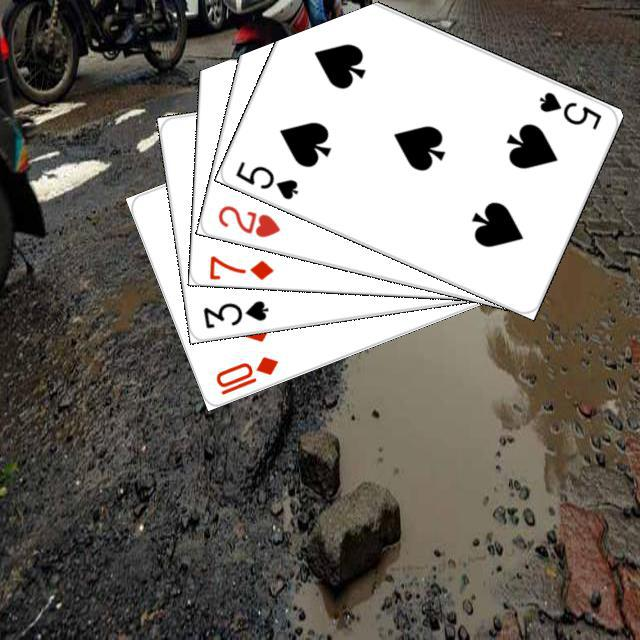10d: (210, 351, 280, 397)
2h: (212, 200, 282, 239)
3s: (198, 295, 270, 330)
5s: (230, 156, 300, 202), (534, 87, 604, 132)
7d: (205, 251, 275, 282)
